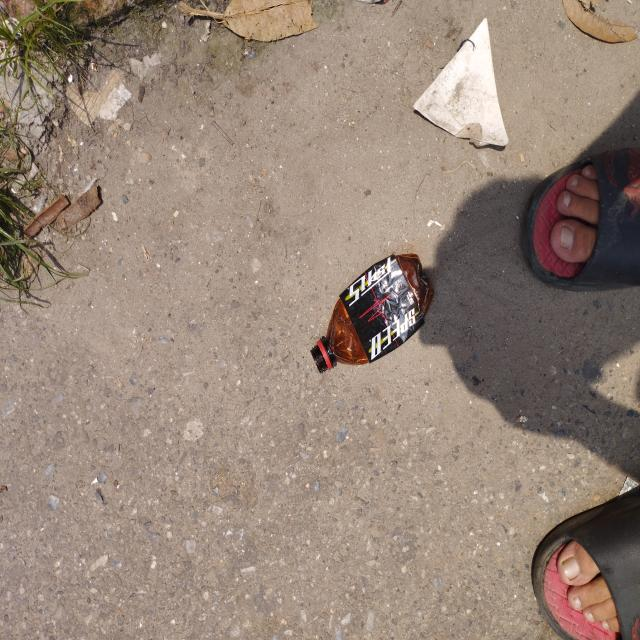plastic: (304, 255, 433, 372)
